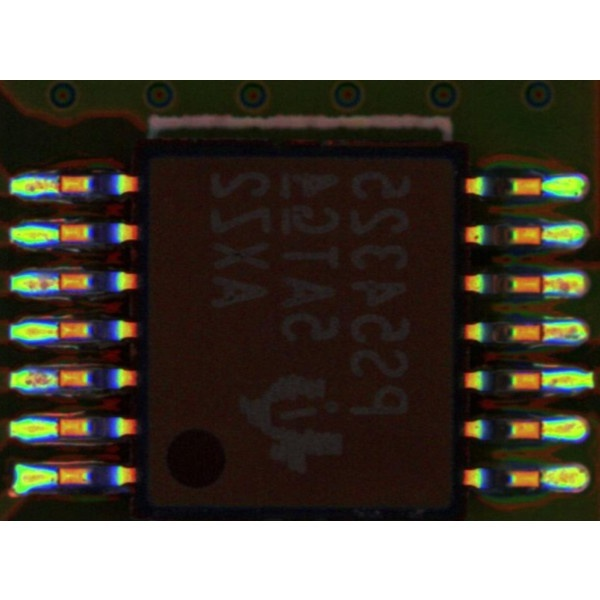Bad_podu: (533, 280, 557, 292), (45, 180, 69, 192), (532, 328, 557, 339)
